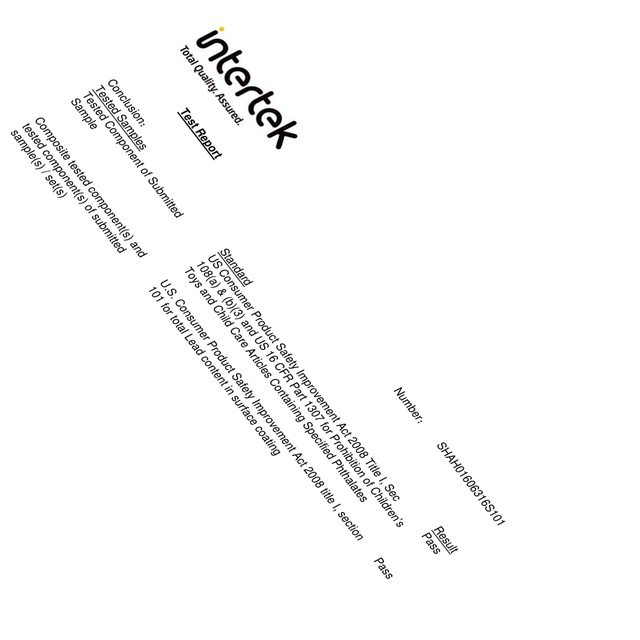intertek: (192, 25, 300, 153)
